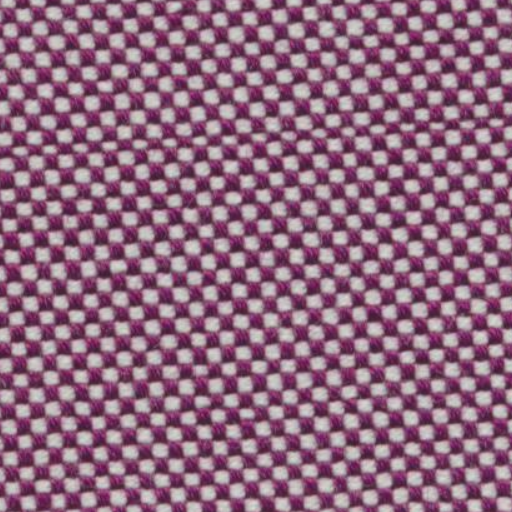TuoSha: (12, 102, 496, 154)
